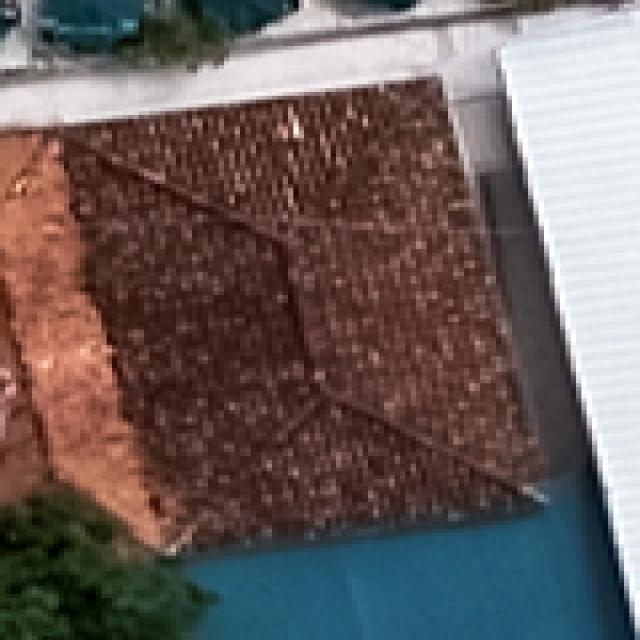Batiment: (5, 80, 538, 548), (499, 11, 640, 627)
